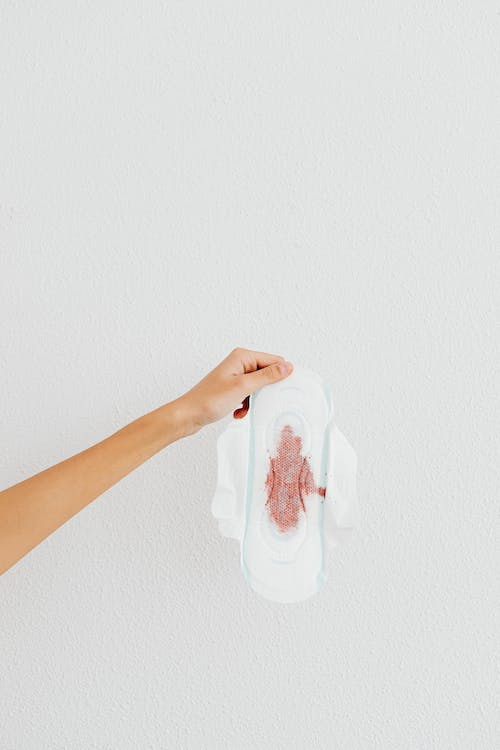blood: (262, 422, 329, 537)
